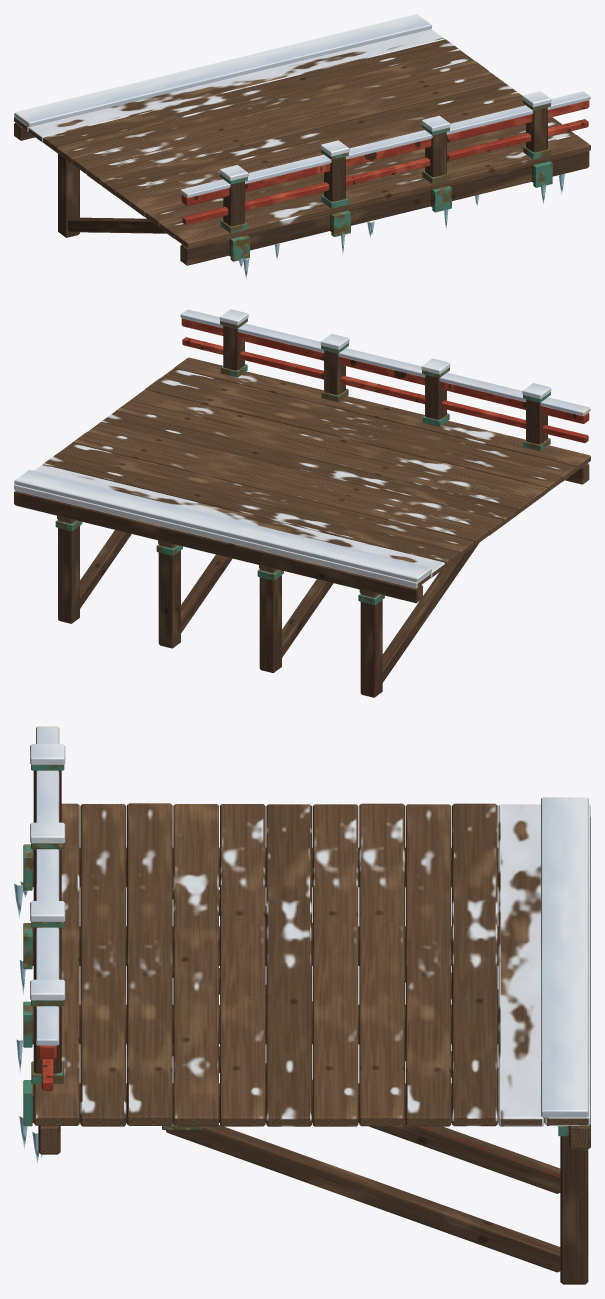
Rendered from SM_Tripo_FrostPlankRoadStraight.glb.
3 views of the same model, one above another, from view 1: azimuth 30°, elevation 25°; view 2: azimuth 150°, elevation 25°; view 3: azimuth 270°, elevation 25° (orthographic). The views are drawn at different scales.
Parts seen in each view (by area): view 1: SM_Tripo_FrostPlankRoadStraight_LOD0; view 2: SM_Tripo_FrostPlankRoadStraight_LOD0; view 3: SM_Tripo_FrostPlankRoadStraight_LOD0.
Part boxes in pixels (x1,y1,x2,y2): SM_Tripo_FrostPlankRoadStraight_LOD0: (14, 14, 590, 279); SM_Tripo_FrostPlankRoadStraight_LOD0: (14, 309, 590, 697); SM_Tripo_FrostPlankRoadStraight_LOD0: (14, 726, 590, 1284).
Bounding box in the file's own units: 8 × 3.49 × 6.21.
1 material, 1 textured.
